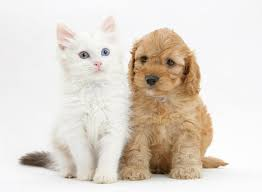cat: (52, 17, 127, 85)
dog: (130, 22, 203, 104)
